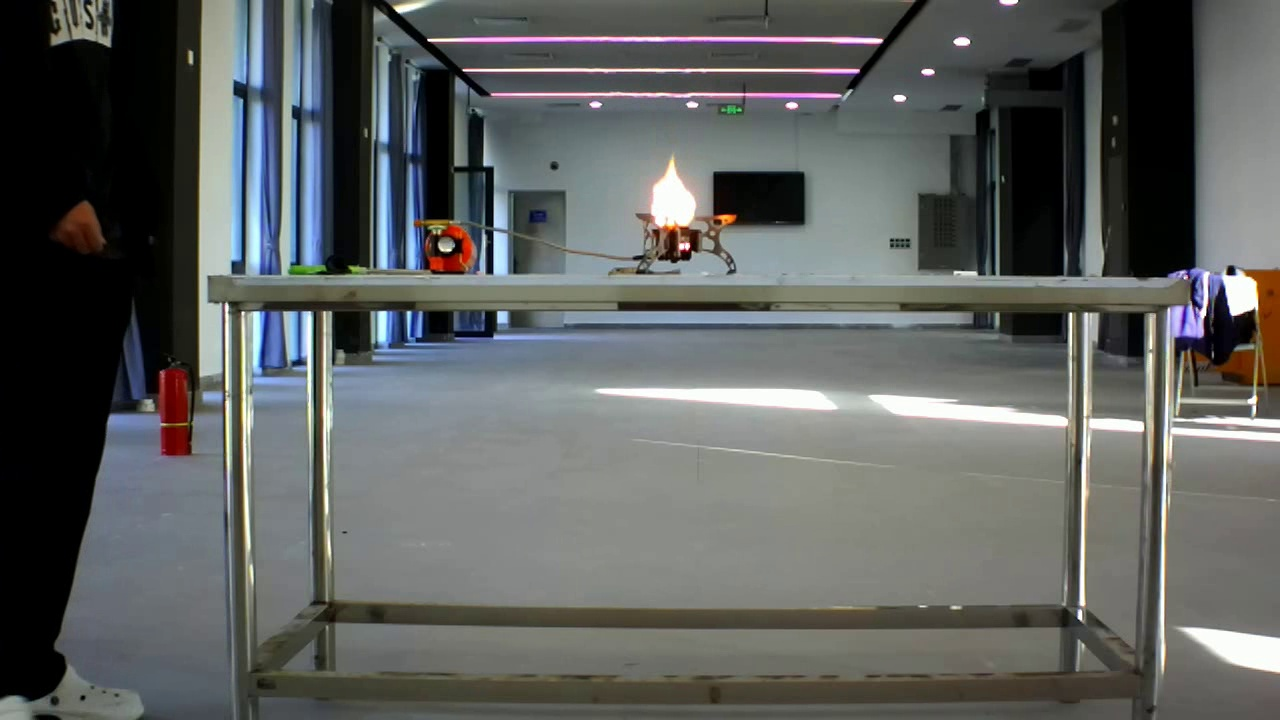Fire: (637, 141, 744, 265)
